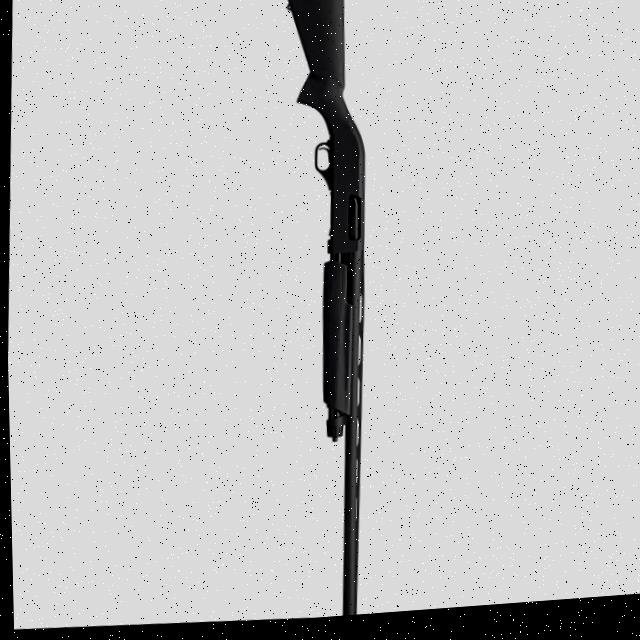firearm: (249, 0, 381, 625)
